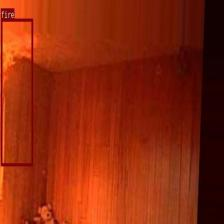fire: (1, 18, 32, 165)
